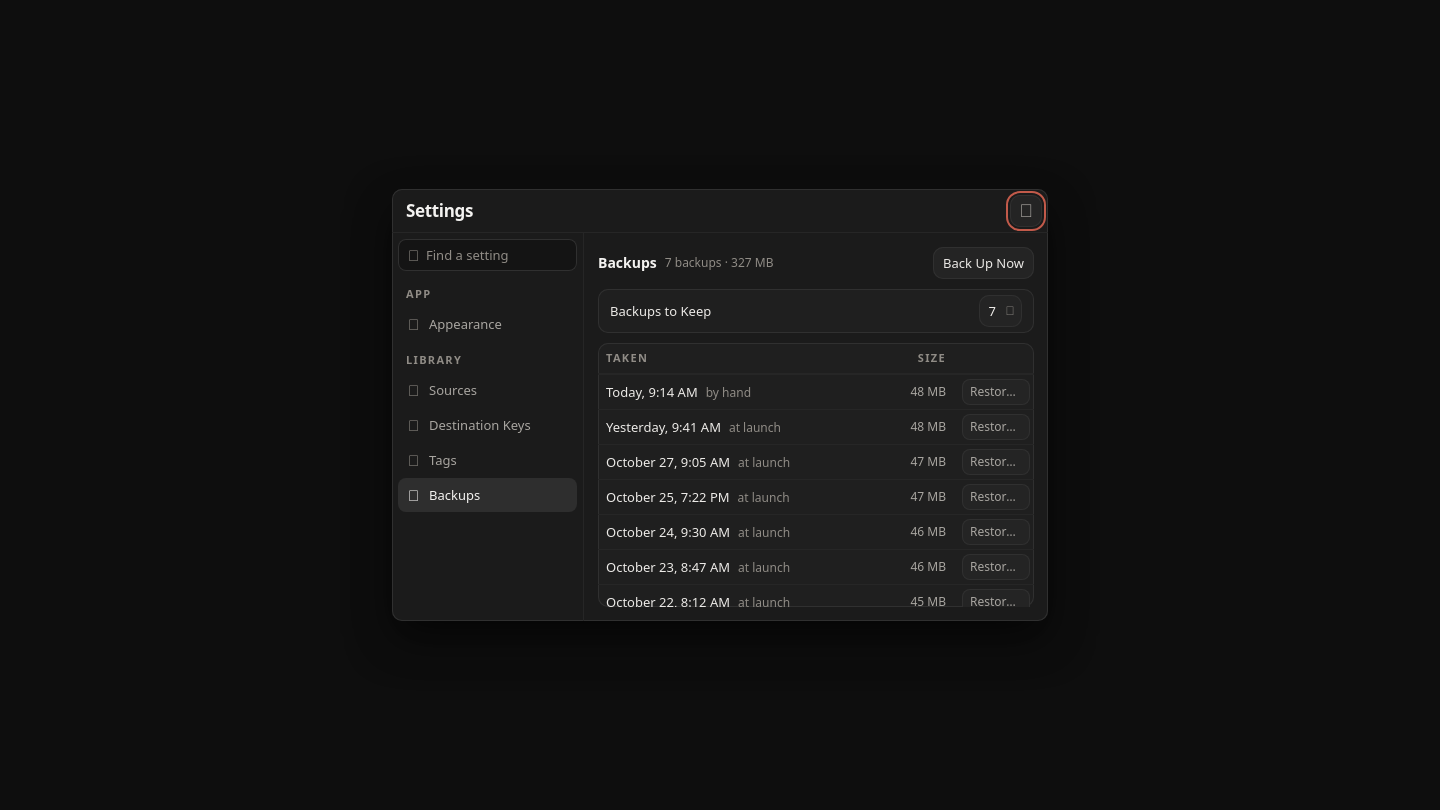
Scenario: a restore holds Settings open, then keeps the way back on top with the focus on it
Click the button "Restore…" in the row of "October 27, 9:05 AM": (996, 462) top-left (962, 449), bottom-right (1030, 475)
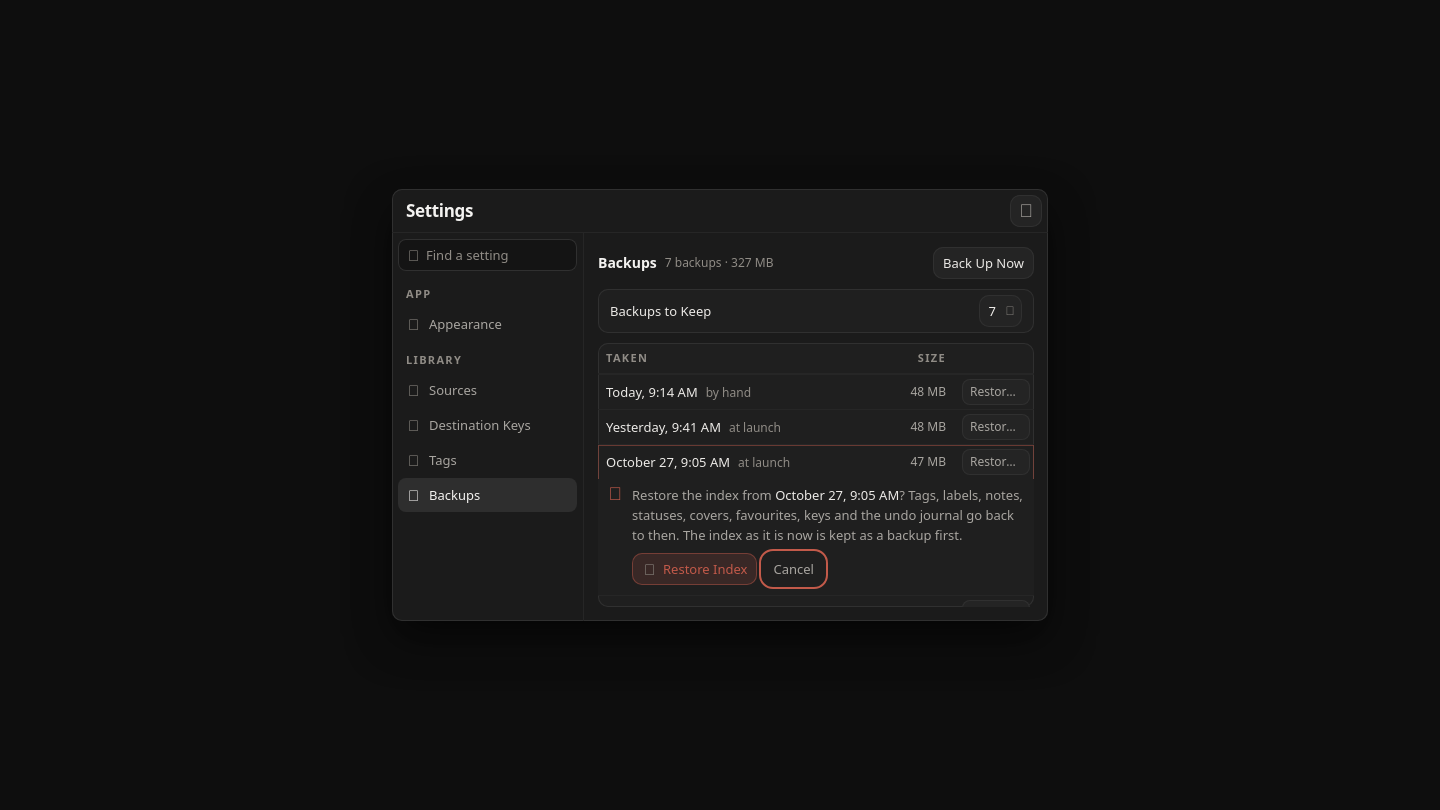
Click the button " Restore Index": (695, 569) top-left (632, 553), bottom-right (757, 585)
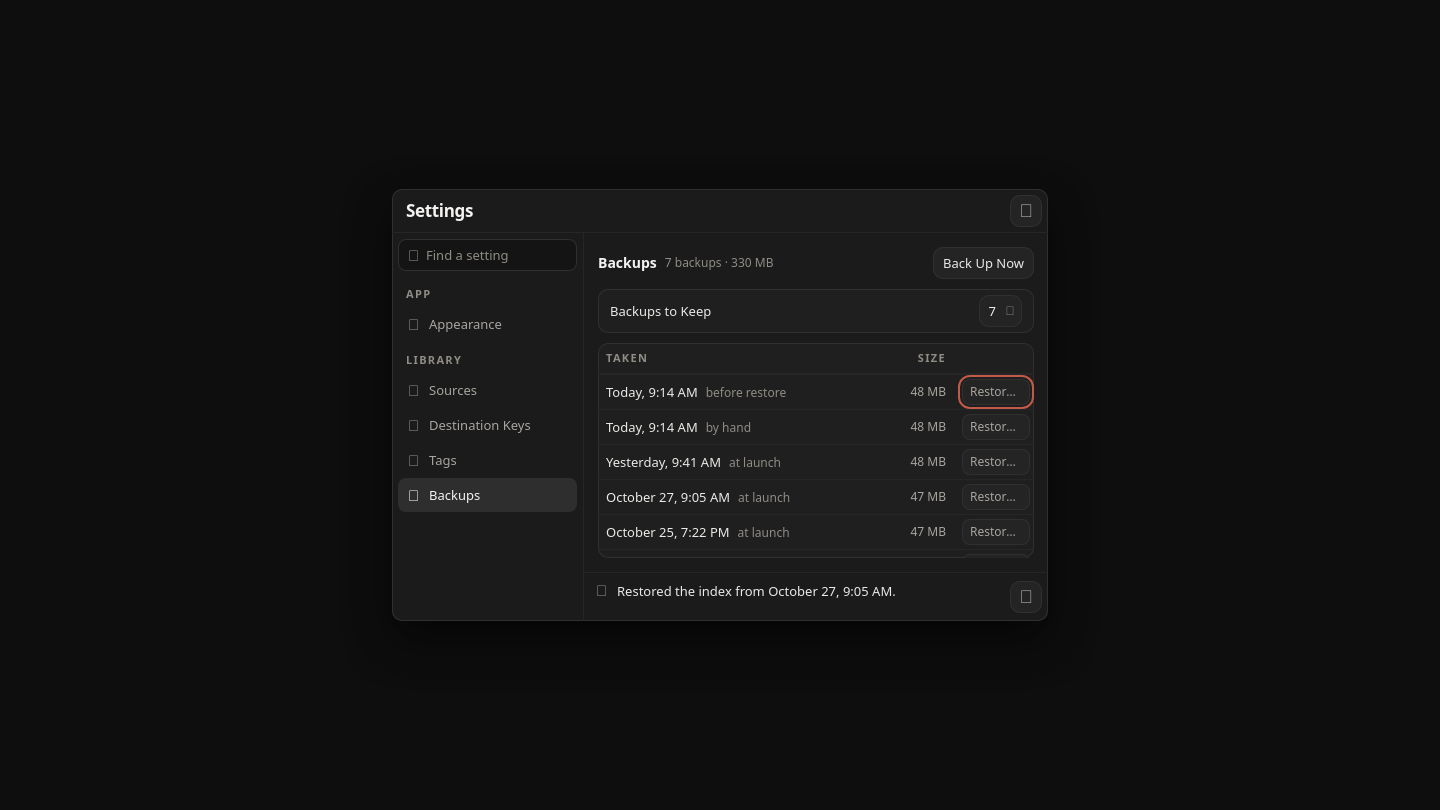
Expected: the element named "Backups" no longer shows "Undo"
